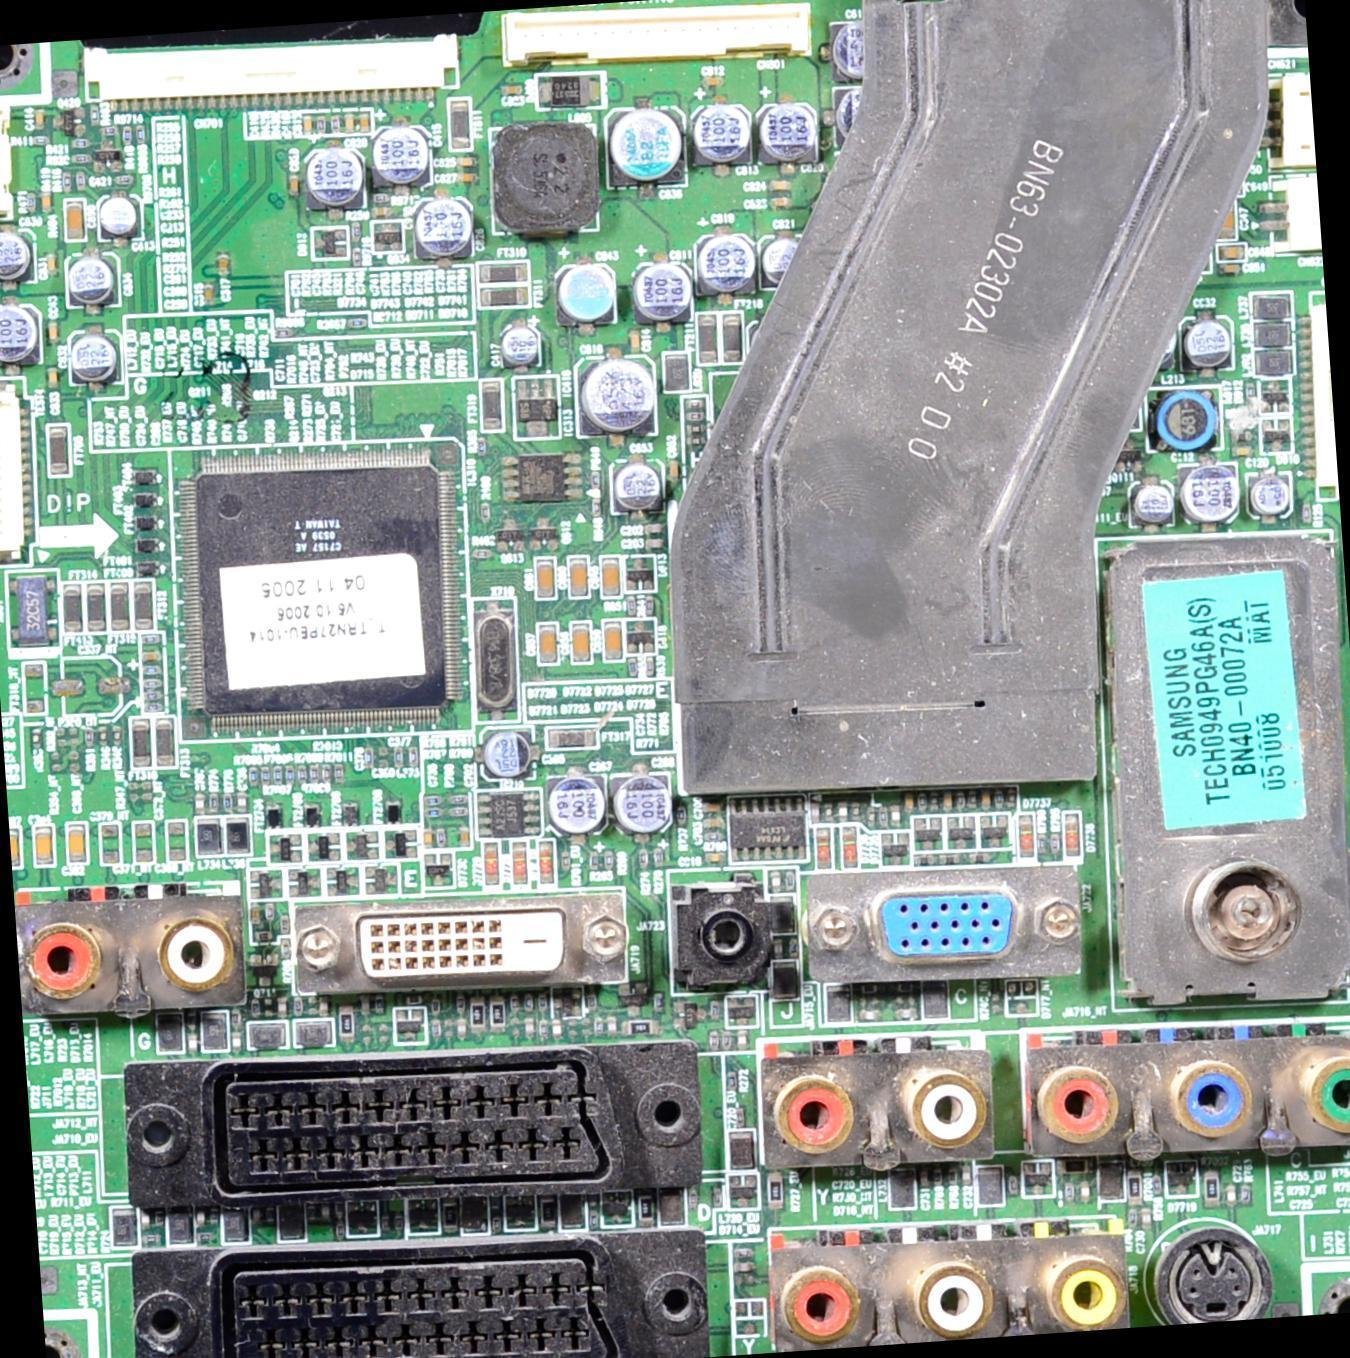Capacitor: (613, 107, 677, 179), (582, 362, 653, 427), (563, 264, 619, 319), (308, 150, 361, 204), (380, 128, 429, 186), (418, 201, 471, 255), (1186, 466, 1237, 519), (622, 778, 675, 828), (767, 108, 816, 157), (551, 777, 602, 825), (706, 239, 754, 288), (1184, 320, 1232, 367), (487, 728, 535, 775), (701, 105, 747, 155), (640, 264, 685, 312), (618, 463, 660, 505), (72, 259, 113, 301), (101, 197, 137, 238), (74, 332, 109, 374), (1135, 482, 1169, 525), (0, 233, 31, 280), (0, 309, 31, 356), (1254, 474, 1285, 511), (767, 233, 787, 279), (503, 329, 537, 357), (65, 198, 86, 240), (537, 625, 556, 661), (536, 562, 554, 595), (9, 825, 22, 866), (573, 623, 588, 657), (68, 824, 83, 860), (37, 827, 51, 864), (572, 563, 588, 592), (603, 625, 618, 657), (1220, 208, 1235, 238), (1235, 437, 1252, 459), (602, 566, 616, 594), (1220, 241, 1243, 257), (1221, 262, 1244, 275), (55, 681, 74, 695), (771, 176, 789, 190), (1260, 203, 1286, 213), (218, 254, 229, 276), (1263, 219, 1285, 230), (364, 746, 374, 767), (768, 196, 786, 208), (103, 679, 125, 689), (501, 85, 522, 95), (453, 159, 476, 168), (47, 320, 57, 340), (303, 113, 311, 135), (359, 111, 369, 130), (346, 110, 353, 135), (451, 172, 472, 180), (704, 817, 721, 827), (705, 78, 724, 86), (393, 749, 403, 765), (708, 853, 722, 864), (289, 175, 298, 192), (36, 110, 44, 128), (370, 206, 385, 217), (49, 369, 57, 388), (143, 651, 158, 660), (630, 331, 639, 348), (648, 525, 663, 533), (963, 1167, 971, 1184), (1226, 1186, 1234, 1202), (669, 461, 677, 475), (206, 282, 212, 305), (462, 828, 468, 846), (1143, 1212, 1151, 1227), (42, 192, 49, 207), (410, 748, 418, 763), (905, 793, 912, 808), (649, 539, 663, 547), (423, 829, 430, 842), (922, 1172, 928, 1187), (706, 804, 718, 811), (945, 792, 951, 807), (982, 792, 989, 804)
IC: (189, 451, 462, 727), (732, 798, 801, 857), (510, 459, 572, 496), (519, 380, 558, 435), (484, 789, 530, 835), (542, 75, 591, 106)
Resistor: (441, 1199, 456, 1232), (770, 1173, 783, 1206), (1205, 1173, 1217, 1203), (640, 1195, 652, 1218), (707, 1032, 720, 1051), (468, 1002, 480, 1023), (631, 1022, 654, 1031), (932, 1169, 943, 1188), (32, 731, 43, 749), (341, 1010, 350, 1034), (349, 317, 365, 329), (1051, 835, 1061, 855), (1131, 1181, 1142, 1198), (99, 128, 118, 137), (123, 126, 132, 145), (61, 172, 71, 190), (331, 114, 340, 135), (692, 412, 708, 423), (492, 1004, 502, 1022), (136, 124, 145, 143), (72, 138, 89, 148), (645, 594, 654, 614), (310, 764, 320, 782), (588, 851, 597, 869), (686, 425, 702, 435), (195, 795, 205, 811), (448, 808, 463, 817), (1038, 834, 1046, 855), (261, 767, 269, 784), (685, 398, 700, 408), (284, 767, 294, 782), (223, 796, 232, 811), (447, 796, 464, 805), (30, 137, 48, 145), (689, 439, 702, 449), (73, 156, 90, 163), (90, 108, 99, 123), (729, 1070, 736, 1089), (1066, 1182, 1076, 1195), (27, 195, 34, 211), (323, 766, 331, 779), (335, 766, 344, 779), (653, 851, 662, 865), (1243, 1185, 1250, 1200), (351, 224, 358, 239), (99, 730, 106, 744), (299, 766, 306, 780), (210, 794, 217, 809), (948, 1166, 955, 1184), (275, 766, 281, 783), (426, 809, 439, 817), (606, 854, 614, 866), (625, 597, 633, 611), (144, 636, 157, 643), (629, 659, 636, 675), (249, 767, 255, 783), (639, 850, 645, 866), (722, 1036, 729, 1049), (1153, 1177, 1159, 1192), (1082, 1185, 1089, 1197), (273, 330, 286, 338), (145, 679, 157, 686), (147, 693, 159, 700), (113, 728, 119, 743), (77, 172, 82, 189), (647, 659, 653, 673), (932, 793, 938, 807), (918, 794, 925, 808), (146, 666, 157, 673), (995, 793, 1002, 804), (1009, 790, 1015, 803), (708, 833, 723, 839), (148, 703, 160, 709), (354, 250, 358, 263), (86, 729, 92, 742), (970, 792, 976, 803), (959, 794, 964, 805), (426, 799, 437, 804), (1131, 1212, 1135, 1225), (319, 117, 322, 131)
Transistor: (623, 557, 656, 593), (497, 519, 527, 558), (673, 1001, 708, 1032), (270, 833, 302, 865), (53, 108, 87, 137), (1261, 421, 1293, 450), (627, 620, 655, 652), (982, 816, 1010, 849), (364, 864, 397, 892), (617, 985, 645, 1016), (603, 1192, 629, 1226), (316, 227, 344, 258), (1262, 381, 1290, 412), (948, 817, 975, 848), (349, 1200, 374, 1232), (730, 1174, 754, 1207), (913, 814, 938, 847), (530, 520, 557, 549), (308, 833, 337, 861), (290, 868, 321, 894), (881, 833, 908, 864), (505, 1198, 531, 1227), (1024, 1163, 1049, 1192), (375, 224, 402, 251), (97, 142, 121, 172), (397, 1014, 422, 1042), (350, 830, 380, 853), (329, 870, 356, 892), (386, 834, 414, 855), (425, 857, 449, 882), (728, 996, 750, 1022), (253, 874, 280, 897)
